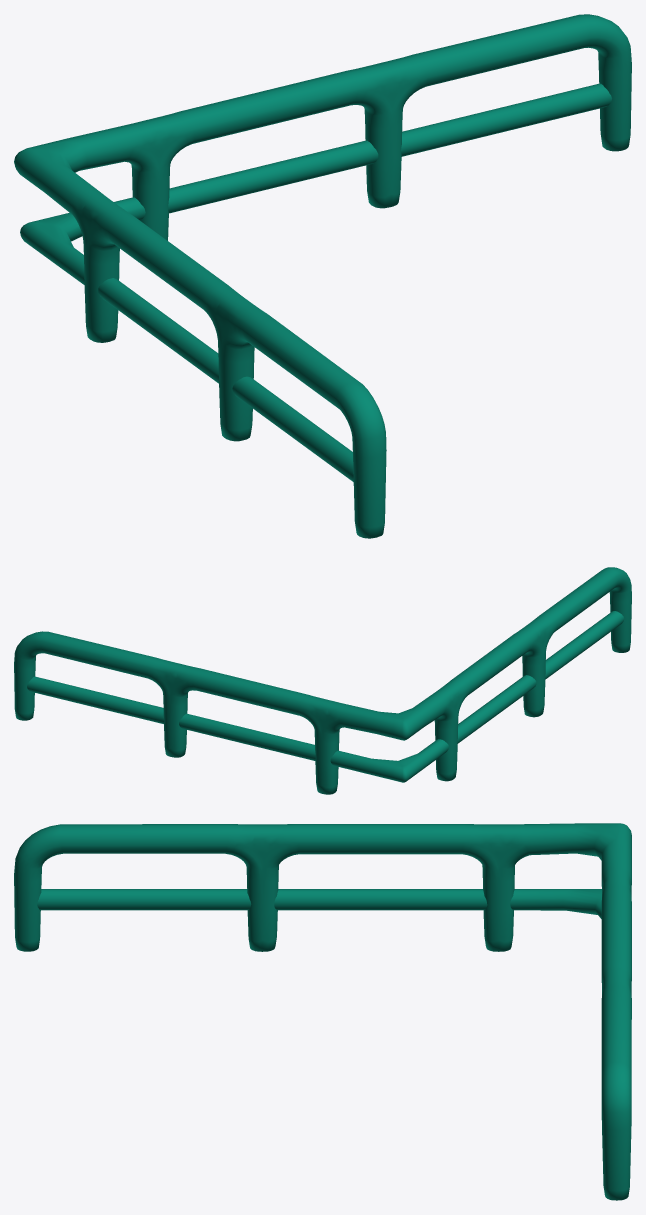
File: BarriereL.fbx
3 views of the same model, one above another, from view 1: azimuth 30°, elevation 25°; view 2: azimuth 150°, elevation 25°; view 3: azimuth 270°, elevation 25° (orthographic). The views are drawn at different scales.
Parts seen in each view (by area): view 1: BarriereL_Lp001; view 2: BarriereL_Lp001; view 3: BarriereL_Lp001.
Boxes of the visible parts, bbox=[...] form: BarriereL_Lp001: bbox=[14, 14, 631, 538]; BarriereL_Lp001: bbox=[14, 567, 631, 794]; BarriereL_Lp001: bbox=[14, 823, 631, 1200].
Size of the model in its own units: 57.06 by 12.41 by 57.06.
